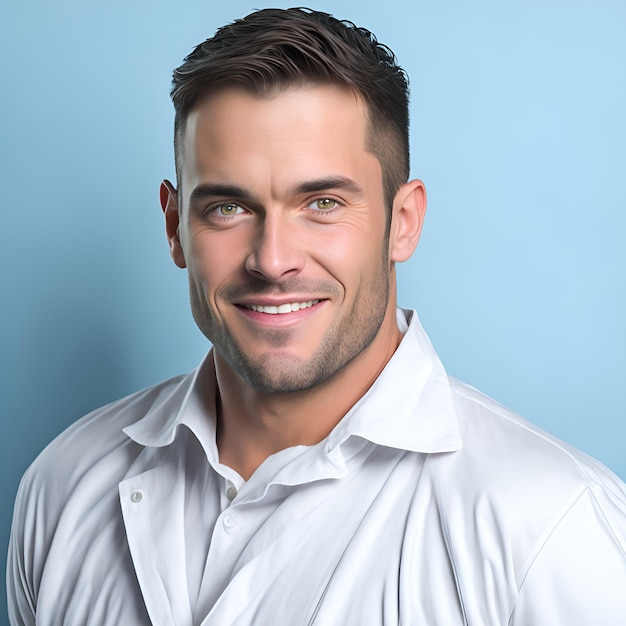young: (157, 22, 426, 394)
